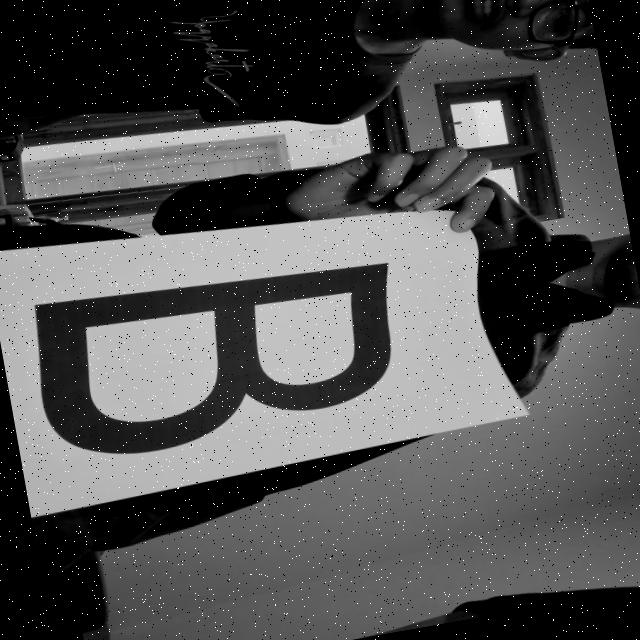b: (14, 231, 430, 474)
